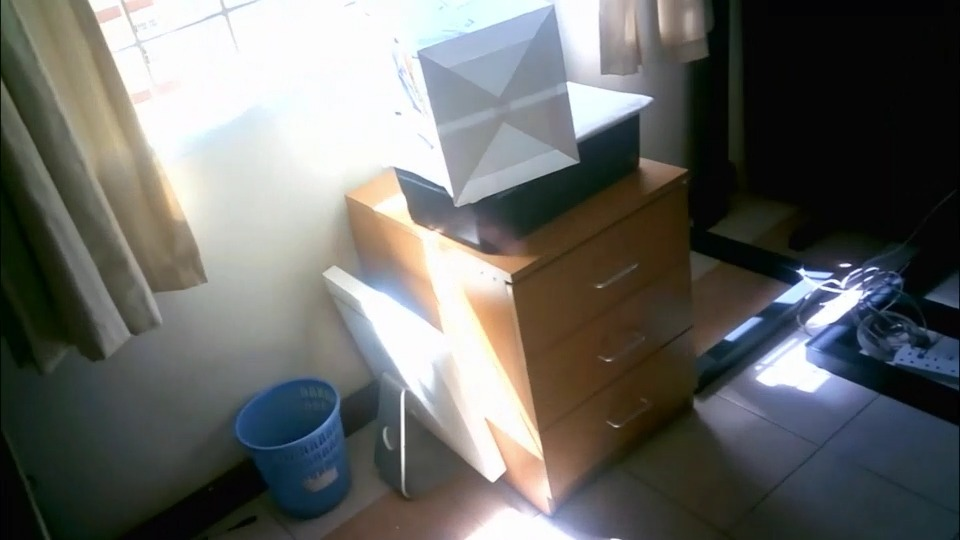wheat_flour_blue_label: (396, 0, 578, 202)
